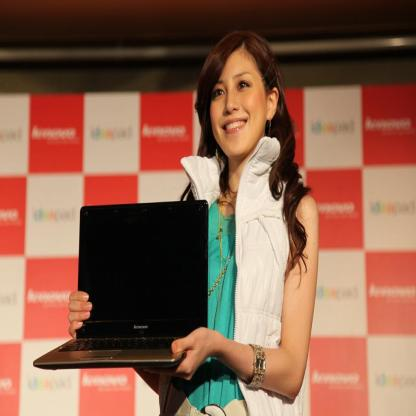board: (51, 202, 219, 381)
